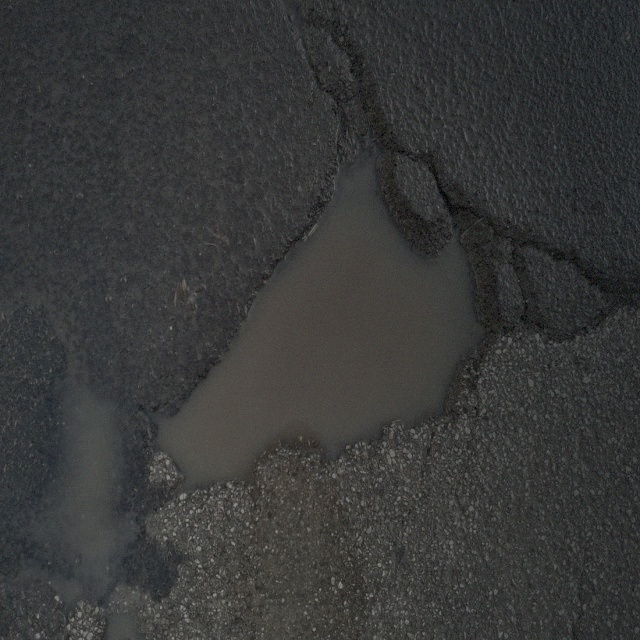pothole: (152, 117, 494, 538)
